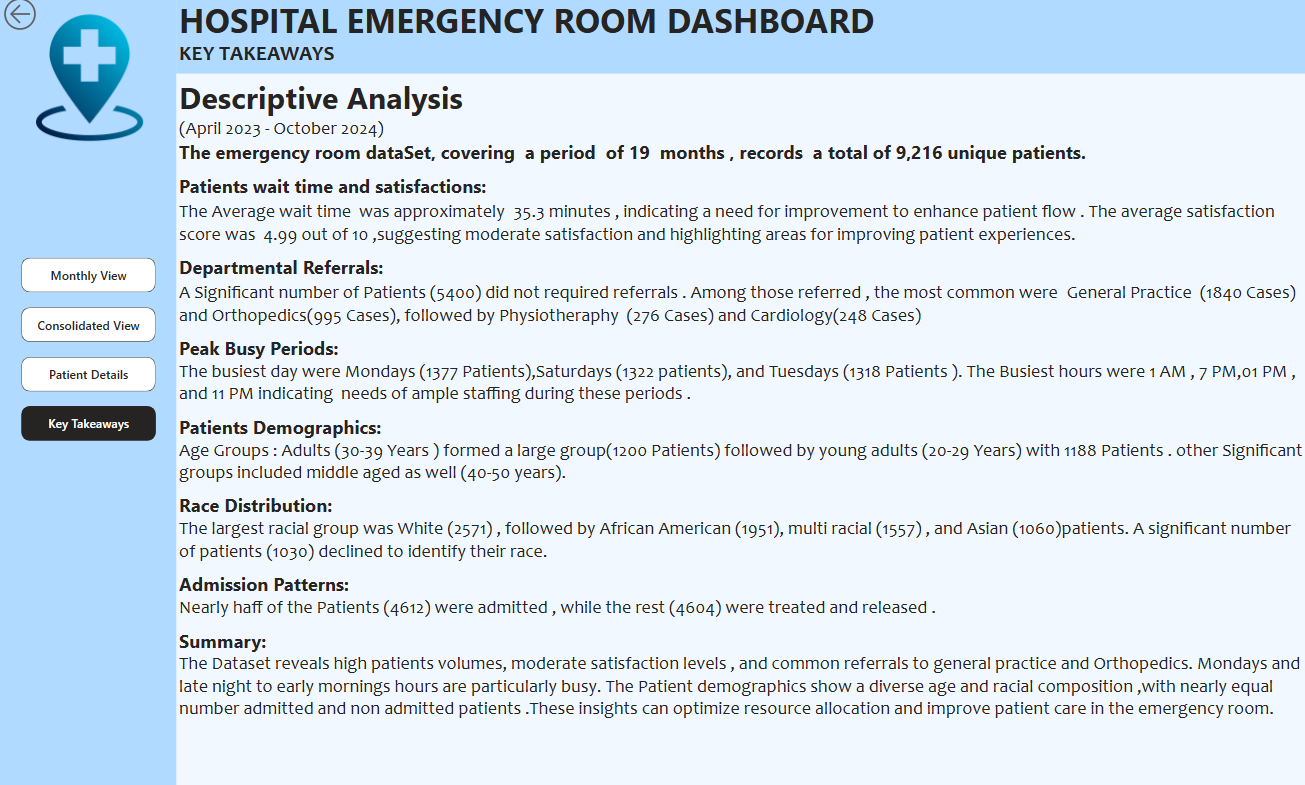

The page's visual inventory and layout, read from the dashboard file:
{"tool":"powerbi","page":{"name":"Key Takeaways","canvas":[2300,1400],"ordinal":3},"visuals":[{"type":"shape","box":[0,0,310,1400],"z":0},{"type":"shape","box":[310,0,1990,140],"z":1000},{"type":"textbox","box":[310,0,1343.3,96.7],"z":2000},{"type":"textbox","box":[310,77.3,494,70.7],"z":3000},{"type":"image","box":[39.6,30.8,235.2,233],"z":4000},{"type":"actionButton","box":[0,0,112.1,70.4],"z":5000},{"type":"pageNavigator","box":[37.4,463.9,237.4,323.2],"z":6000},{"type":"textbox","box":[310,140.7,1989.6,1259.7],"z":7000}]}

Visuals, with their boxes on the page's 2300x1400 design canvas (x1, y1, x2, y2). These are canvas units, not pixel positions in the 1305x785 screenshot, which may show the page scaled, cropped or inside an application window:
shape: 0, 0, 310, 1400
shape: 310, 0, 2300, 140
textbox: 310, 0, 1653, 97
textbox: 310, 77, 804, 148
image: 40, 31, 275, 264
actionButton: 0, 0, 112, 70
pageNavigator: 37, 464, 275, 787
textbox: 310, 141, 2300, 1400
